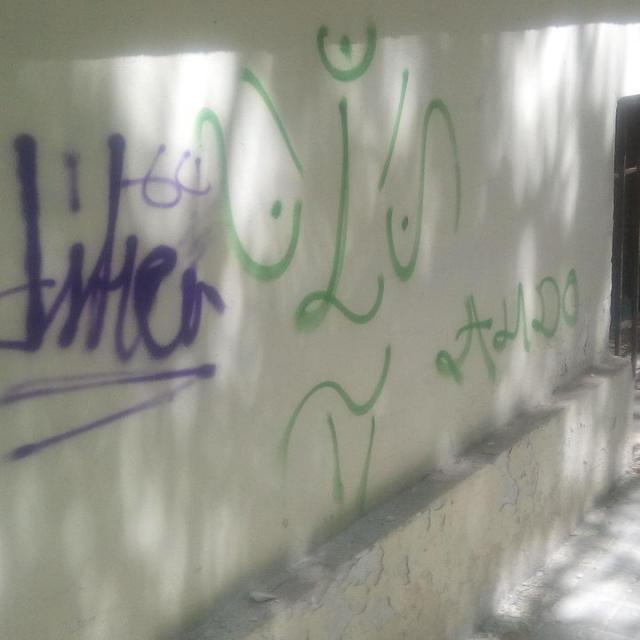nonspitting: (195, 19, 582, 512), (0, 130, 223, 460)
